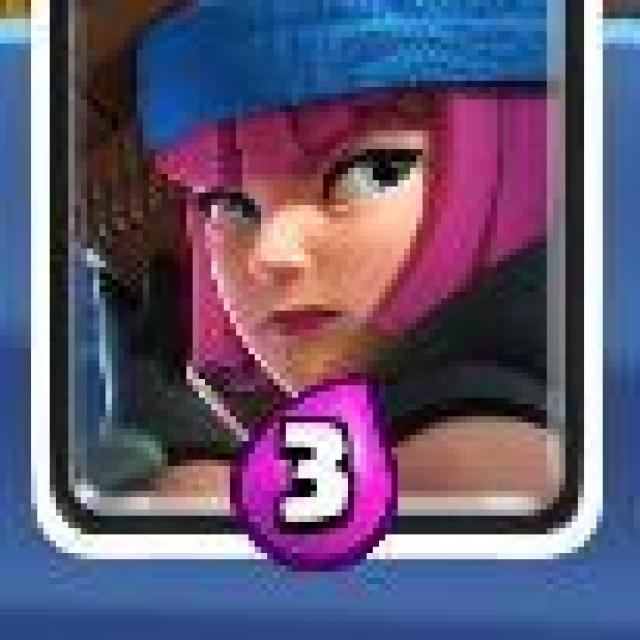Firecracker: (30, 0, 606, 564)
